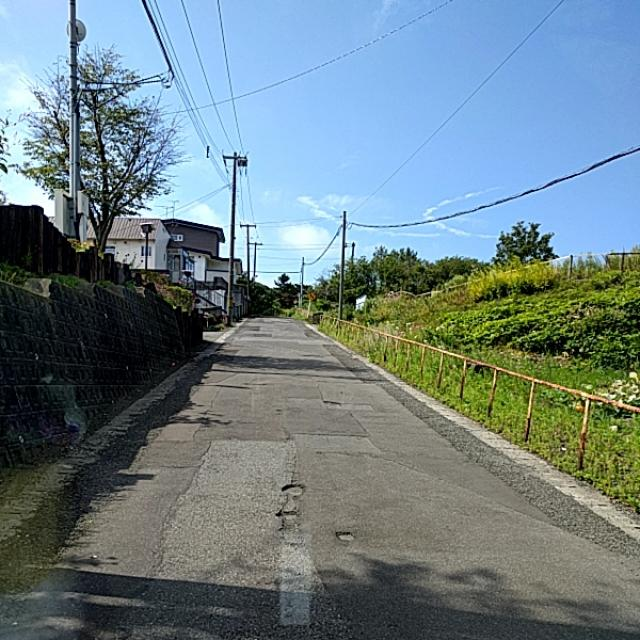pothole: (138, 432, 195, 629)
